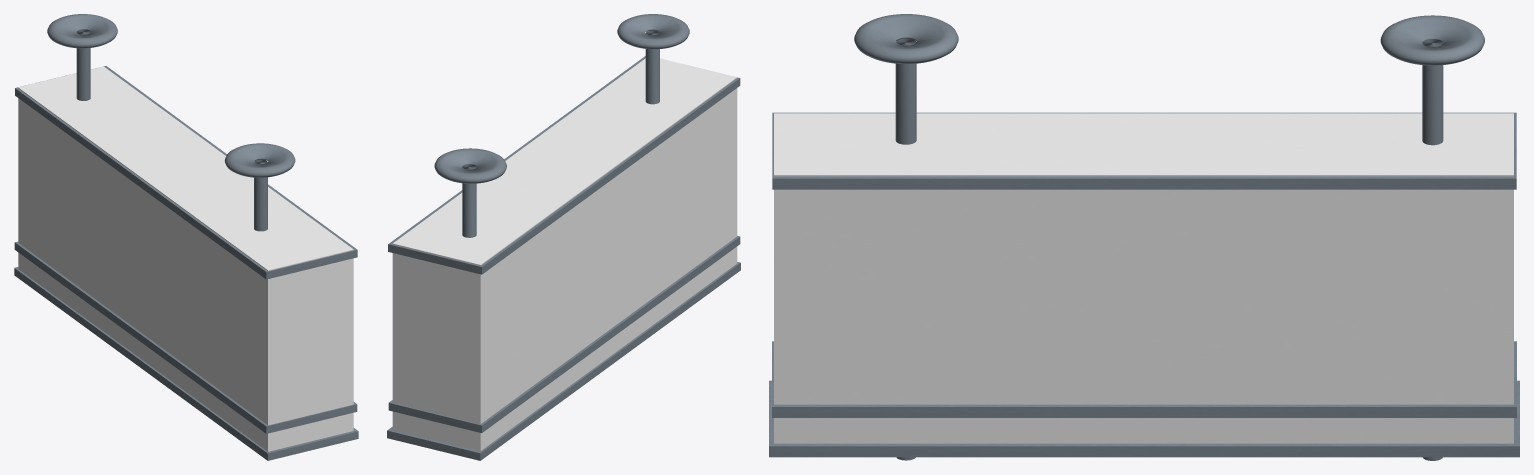
The model's file is LoftSkilt.fbx.
3 views of the same model, side by side, from view 1: azimuth 30°, elevation 25°; view 2: azimuth 150°, elevation 25°; view 3: azimuth 270°, elevation 25° (orthographic). The views are drawn at different scales.
Visible parts, largest first — view 1: Cube, Cube.001, Cube.003, Cube.002, Torus.001, Torus.002, Cylinder, Cylinder.001; view 2: Cube, Cube.001, Cube.003, Cube.002, Torus.001, Torus.002, Cylinder, Cylinder.001; view 3: Cube, Cube.001, Cube.003, Cube.002, Torus.001, Torus.002, Cylinder, Cylinder.001.
Boxes of the visible parts, x1,y1,x2,y2 form: Cube: [18, 66, 353, 451]; Cube.001: [15, 66, 357, 279]; Cube.003: [14, 267, 358, 460]; Cube.002: [14, 241, 357, 433]; Torus.001: [224, 143, 295, 177]; Torus.002: [47, 14, 117, 48]; Cylinder: [76, 29, 90, 100]; Cylinder.001: [254, 159, 267, 231]; Cube: [392, 58, 737, 451]; Cube.001: [388, 56, 740, 274]; Cube.003: [387, 262, 740, 460]; Cube.002: [388, 236, 740, 432]; Torus.001: [617, 14, 689, 49]; Torus.002: [434, 148, 506, 183]; Cylinder: [462, 164, 476, 237]; Cylinder.001: [645, 30, 659, 104]; Cube: [774, 113, 1513, 443]; Cube.001: [772, 112, 1516, 189]; Cube.003: [769, 380, 1519, 457]; Cube.002: [772, 341, 1516, 417]; Torus.001: [854, 14, 958, 64]; Torus.002: [1380, 15, 1484, 65]; Cylinder: [1422, 39, 1443, 460]; Cylinder.001: [895, 38, 916, 460].
Size of the model in its own units: 74.68 by 223 by 359.
2 materials, 2 textured.
